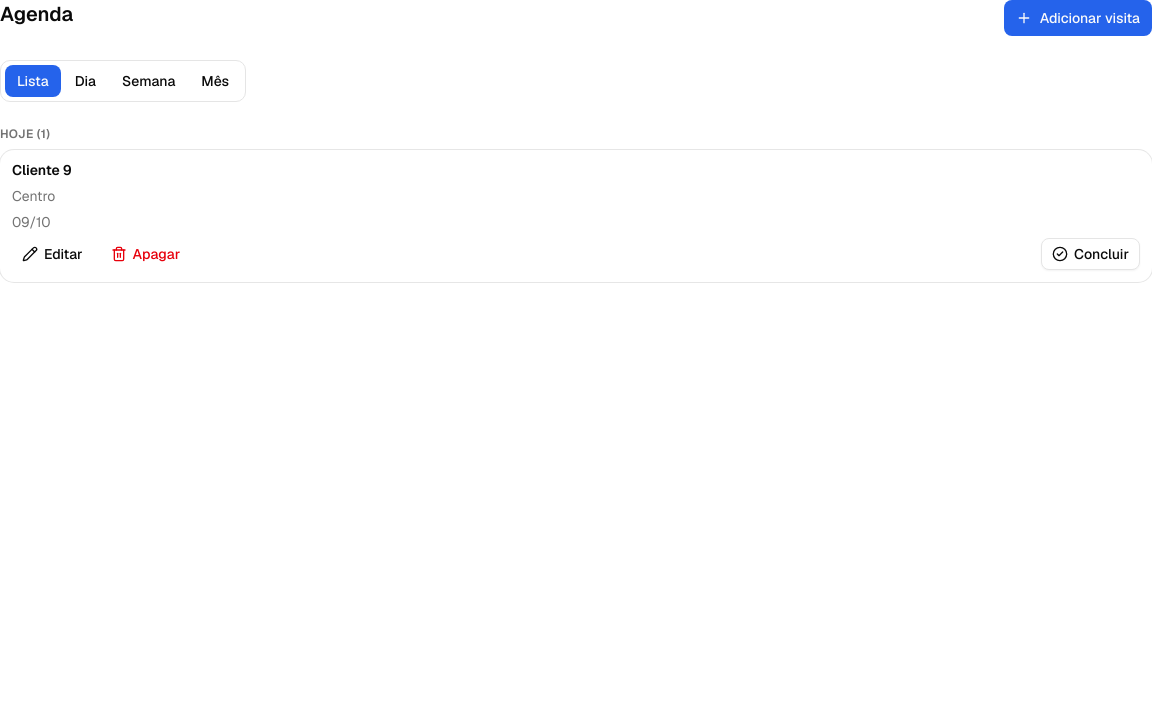
Test: Agenda2List › adicionar-pelo-cabecalho: com itens, o botão do cabeçalho abre a janela Adicionar visita
Check: the heading "Hoje (1)" is shown, box [0,126,50,142]
Click the button "Adicionar visita" at x=1078, y=18, box [1004,0,1151,36]
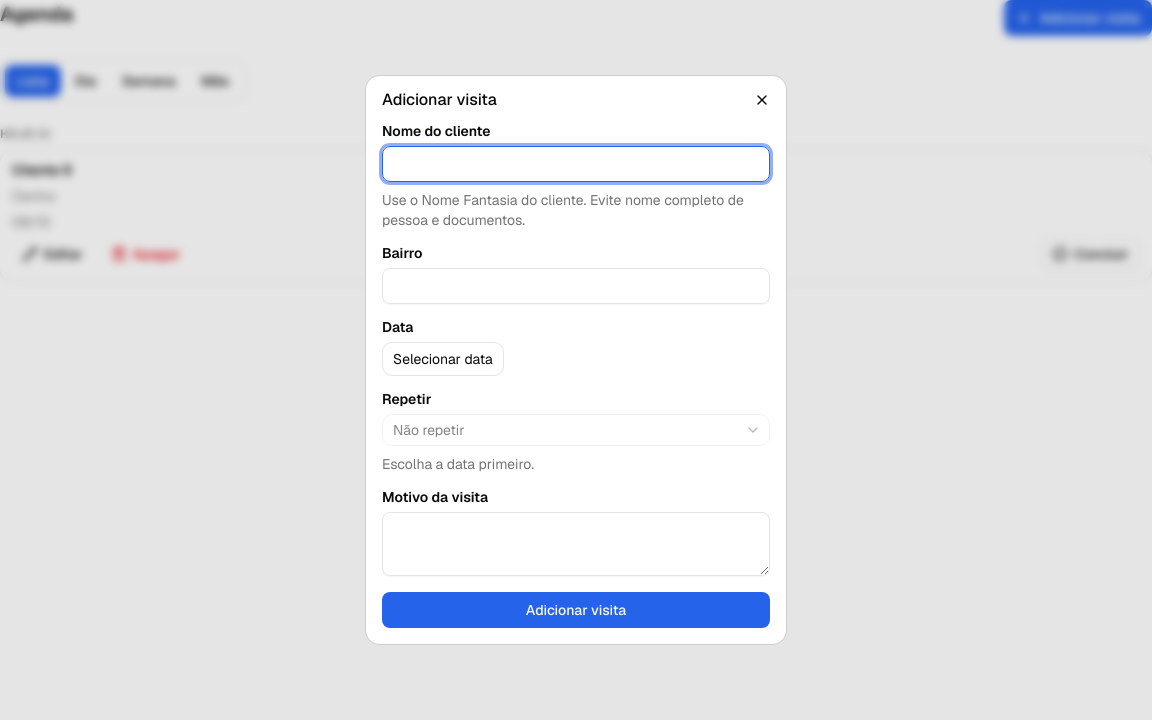
Check: the field labelled "Nome do cliente" is shown, box [382,146,770,182]
